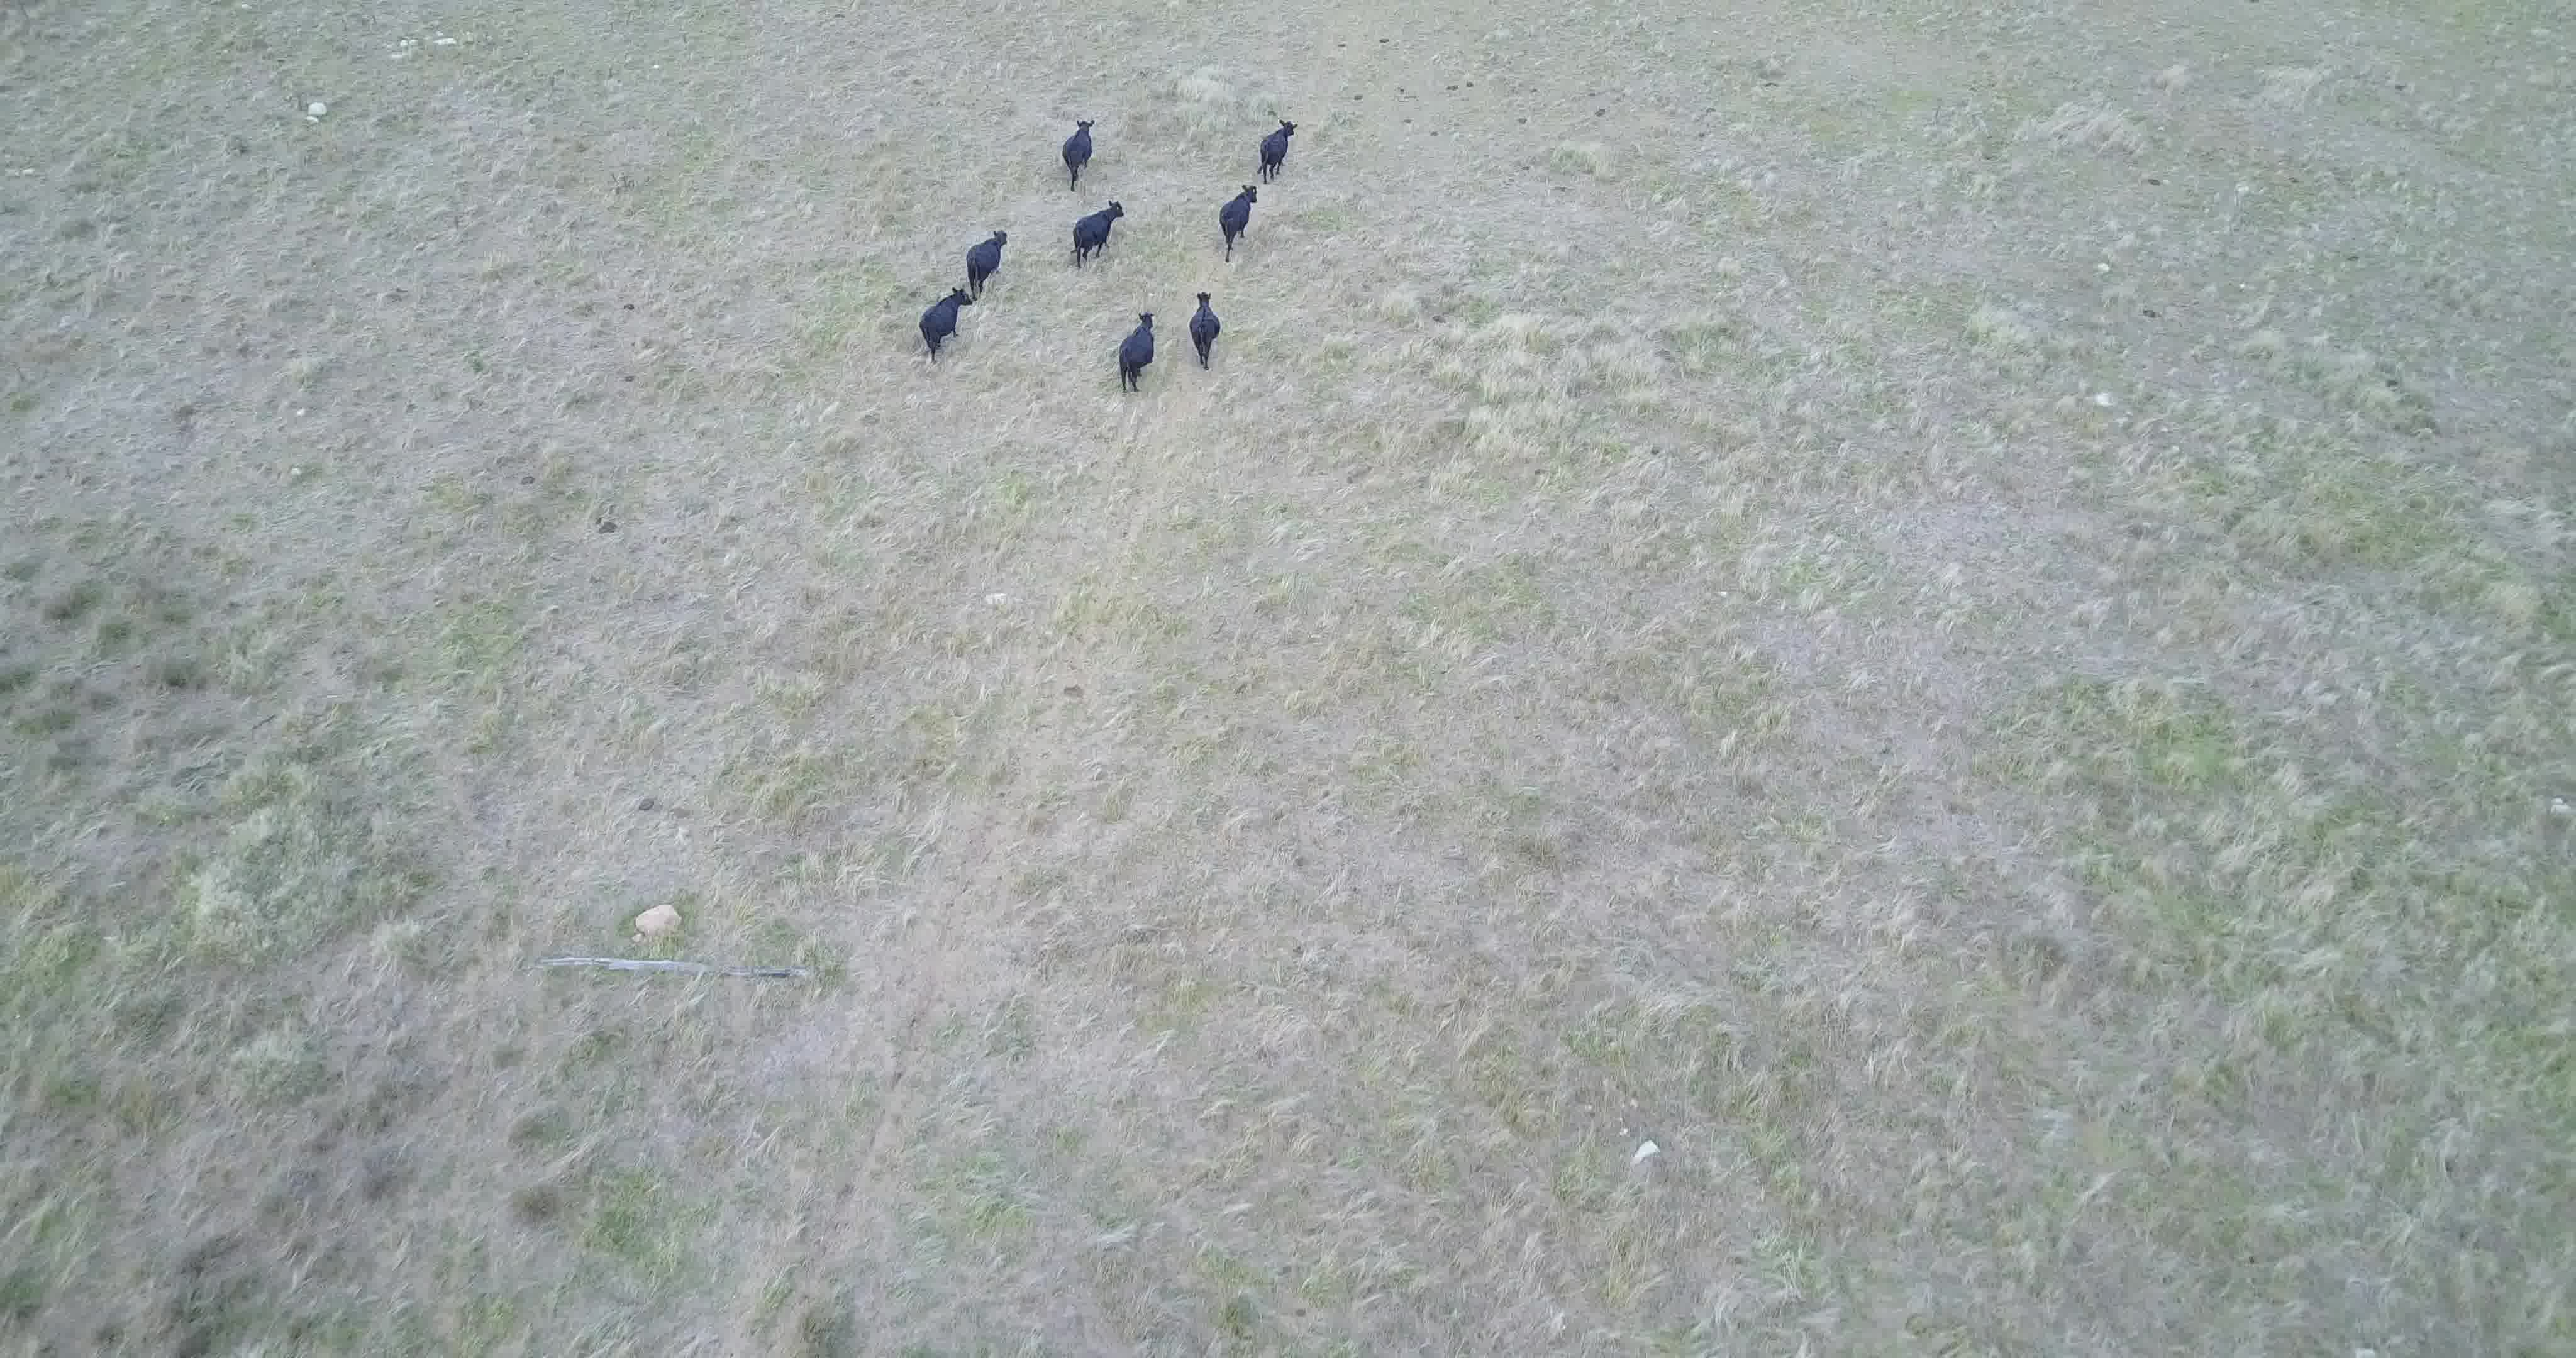cattle: (915, 286, 973, 373), (1068, 199, 1128, 276), (961, 227, 1010, 310), (1114, 310, 1159, 395), (1215, 182, 1259, 262), (1256, 116, 1300, 191), (1186, 288, 1223, 370), (1060, 116, 1097, 191)
